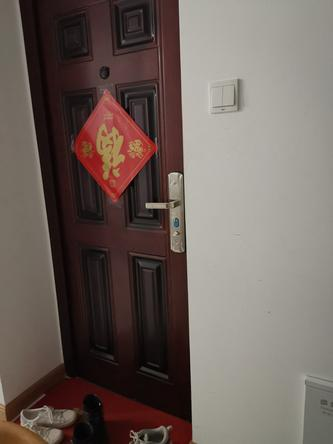switch: (219, 81, 237, 107), (209, 83, 226, 110)
